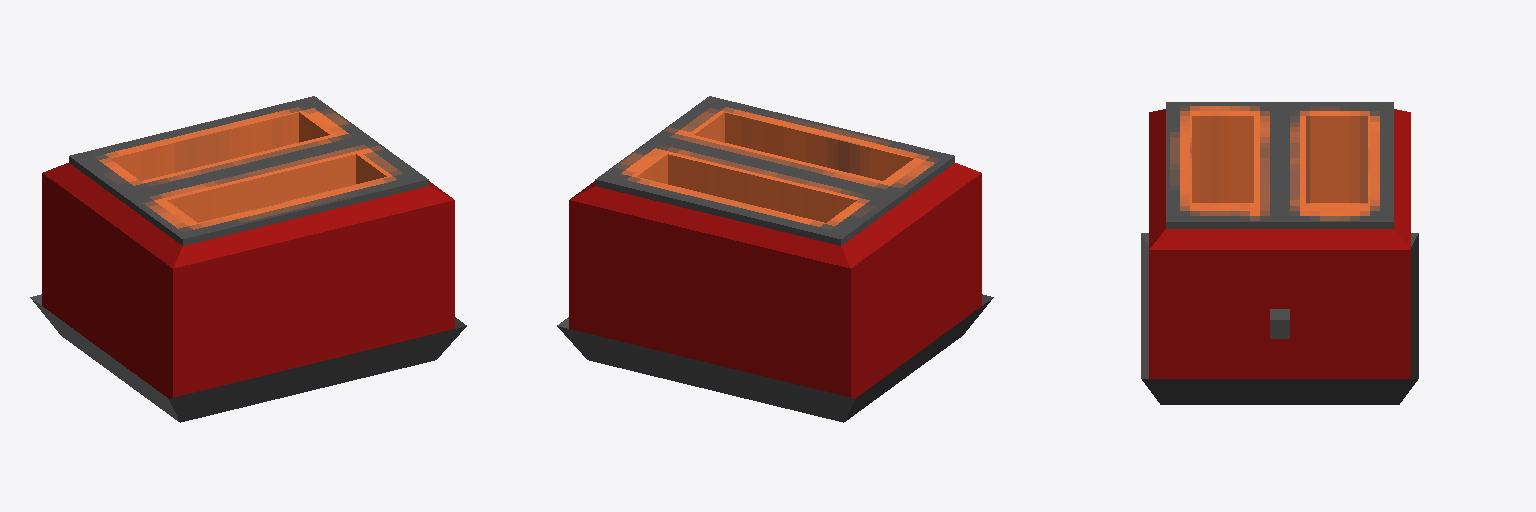
3 renders of one model, left to right at view 1: azimuth 30°, elevation 25°; view 2: azimuth 150°, elevation 25°; view 3: azimuth 270°, elevation 25°, orthographic.
Visible parts, largest first — view 1: Cube.005; view 2: Cube.005; view 3: Cube.005.
Boxes of the visible parts, x1,y1,x2,y2 form: Cube.005: [30, 96, 466, 422]; Cube.005: [557, 96, 993, 422]; Cube.005: [1141, 102, 1418, 404].
Size of the model in its own units: 0.8865 by 0.4872 by 0.6796.
1 materials, 1 textured.